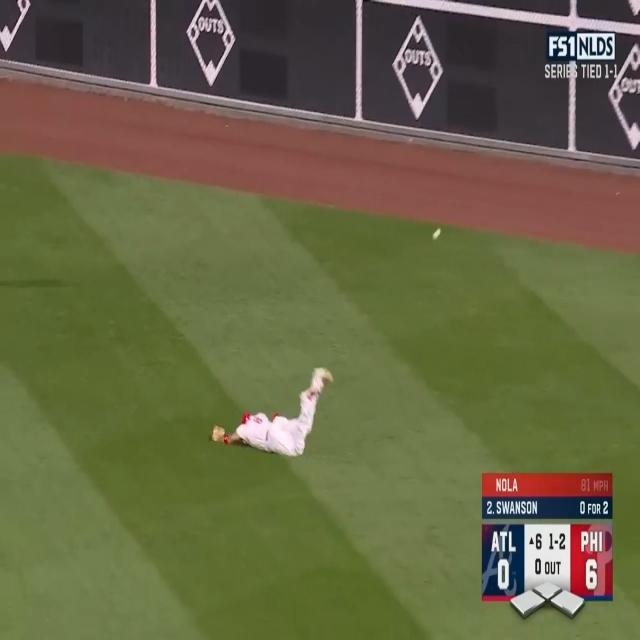baseball: (432, 228, 442, 242)
